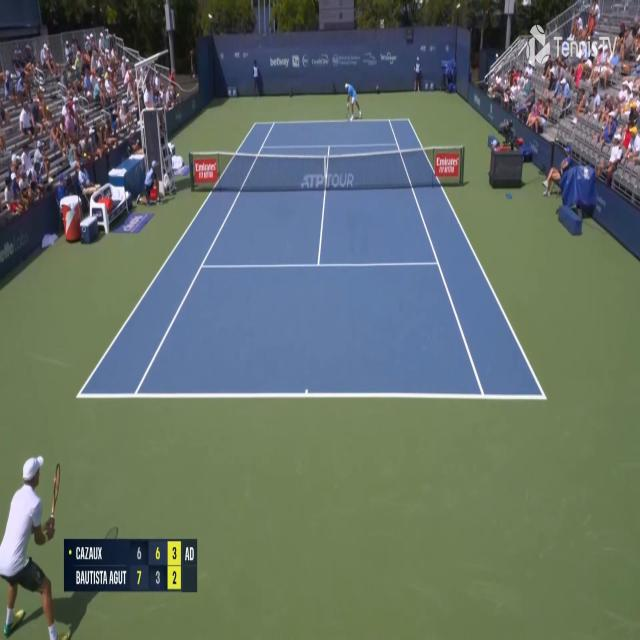tennis-player: (0, 454, 62, 639), (343, 75, 363, 122)
